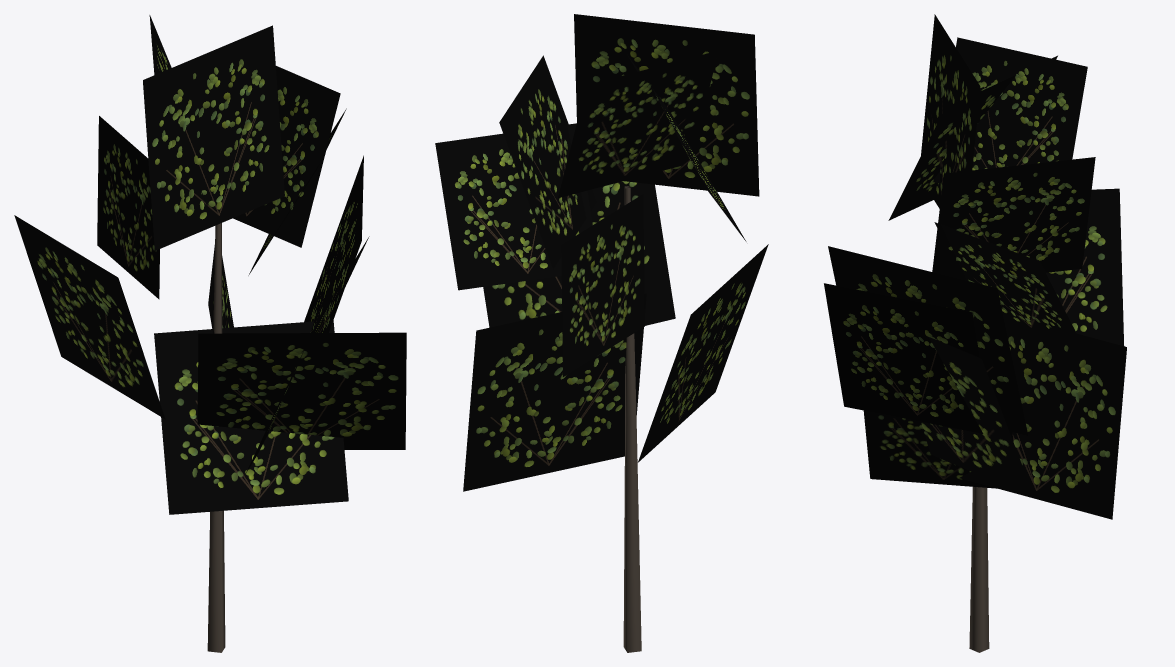
The model's file is tpl_bog_birch_lo.glb.
3 renders of one model, left to right at view 1: azimuth 30°, elevation 25°; view 2: azimuth 150°, elevation 25°; view 3: azimuth 270°, elevation 25°, orthographic. The views are drawn at different scales.
Parts seen in each view (by area): view 1: tpl_bog_birch_lo; view 2: tpl_bog_birch_lo; view 3: tpl_bog_birch_lo.
Part boxes in pixels (x1,y1,x2,y2): tpl_bog_birch_lo: [14, 15, 406, 652]; tpl_bog_birch_lo: [435, 14, 768, 652]; tpl_bog_birch_lo: [824, 14, 1126, 652].
Size of the model in its own units: 6.67 by 13.31 by 7.44.
2 materials, 1 textured.
